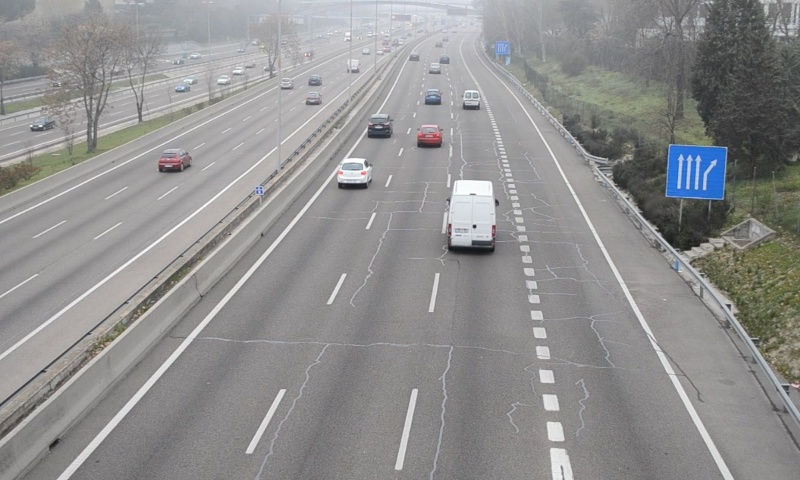car: (335, 159, 372, 184), (366, 113, 393, 139), (417, 124, 442, 148), (424, 88, 442, 106)
van: (448, 180, 498, 249), (462, 89, 482, 110)
